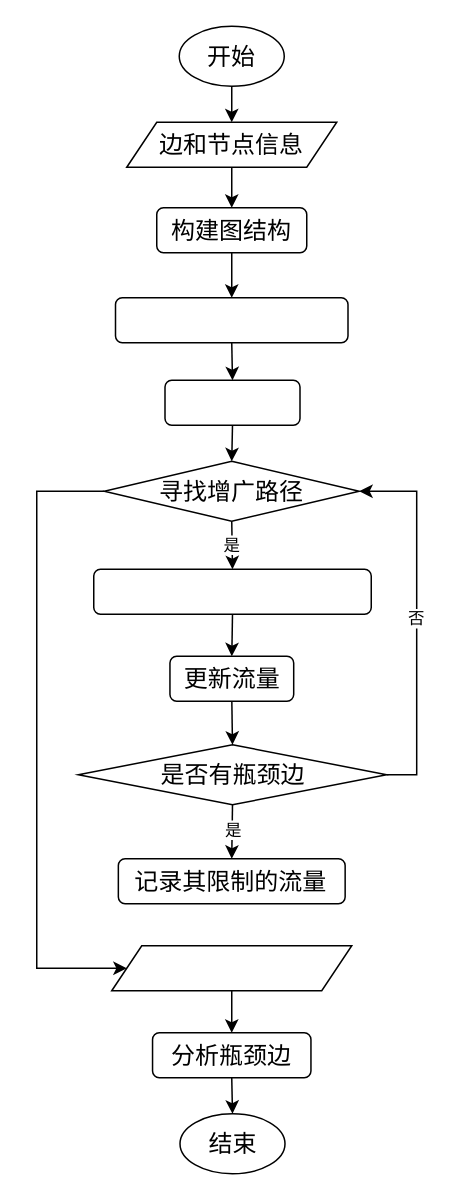
This 456x1200 diagram has some shape labels left out. Here are the shapes that lost their labels. From the top down, the centre of each, then its label:
At point 231,319: "定义源节点和汇节点".
At point 232,402: "初始化流量".
At point 231,591: "计算路径上的瓶颈容量".
At point 231,967: "输出最大流结果".
